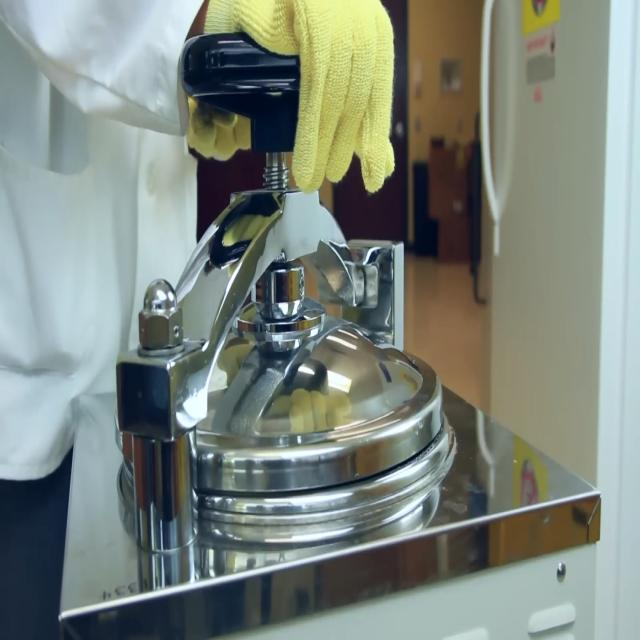labcoat: (0, 0, 213, 489)
